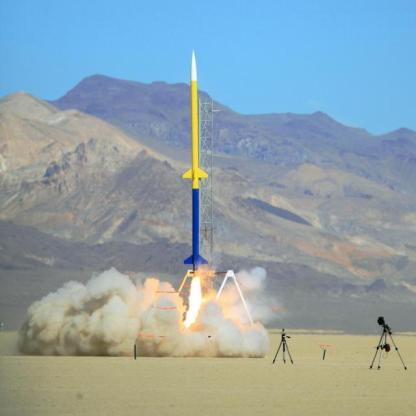MIL_TBM: (182, 49, 210, 268)
